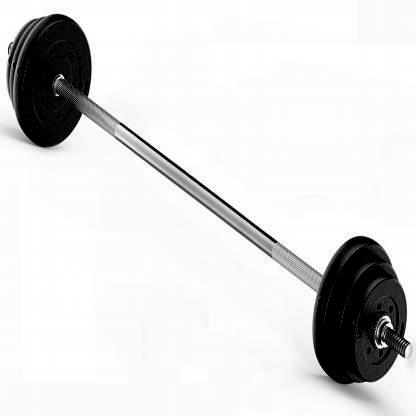Barbell: (399, 336, 416, 371)
